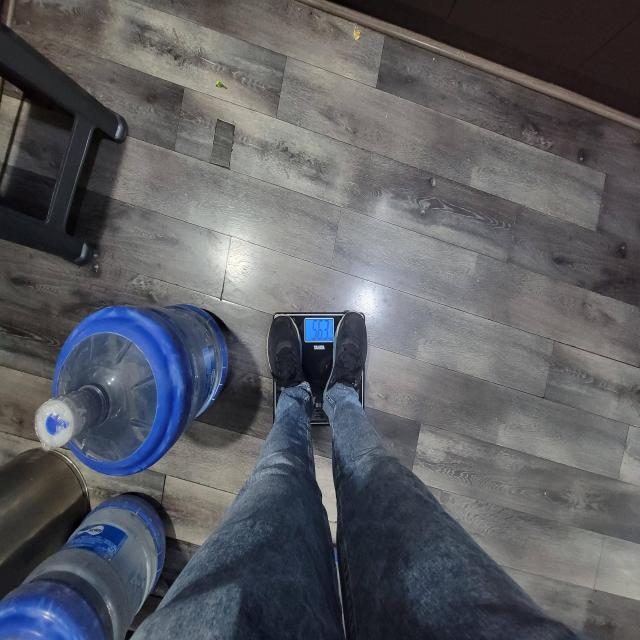ws: (272, 313, 363, 411)
